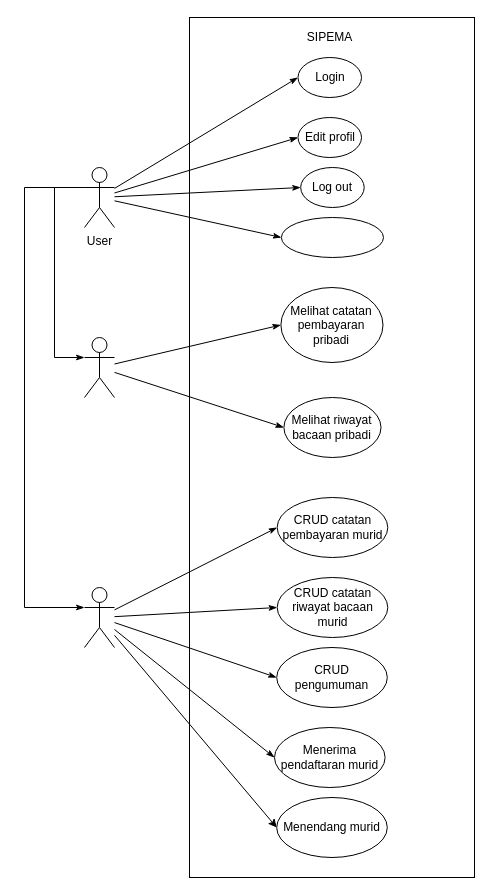
Some shapes in this 492 by 895 pixel diagram are drawn without their labels. The centre of each missing label's shape, as x and y in pixels:
"Guru" belongs at [99,617].
"Melihat pengumuman" belongs at [332,237].
"Murid" belongs at [99,367].
